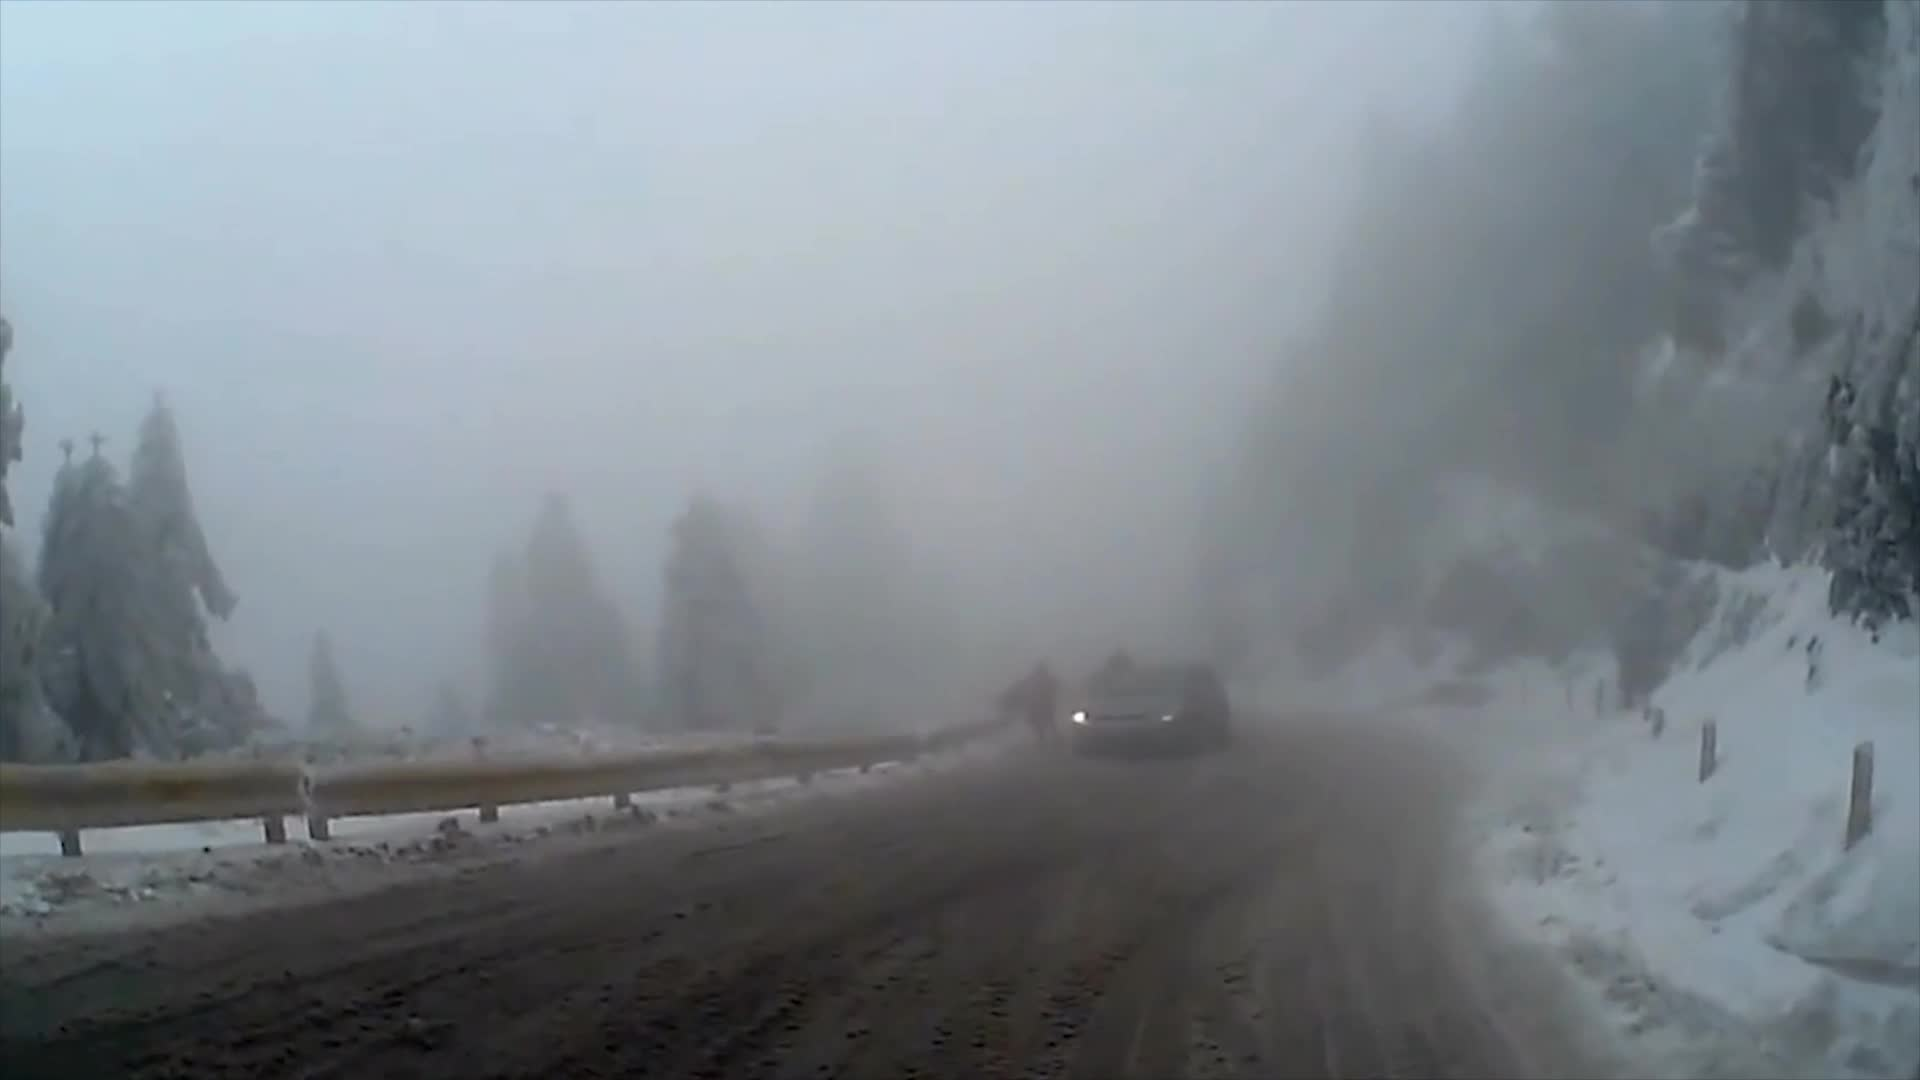vehicle: (1060, 659, 1229, 764)
